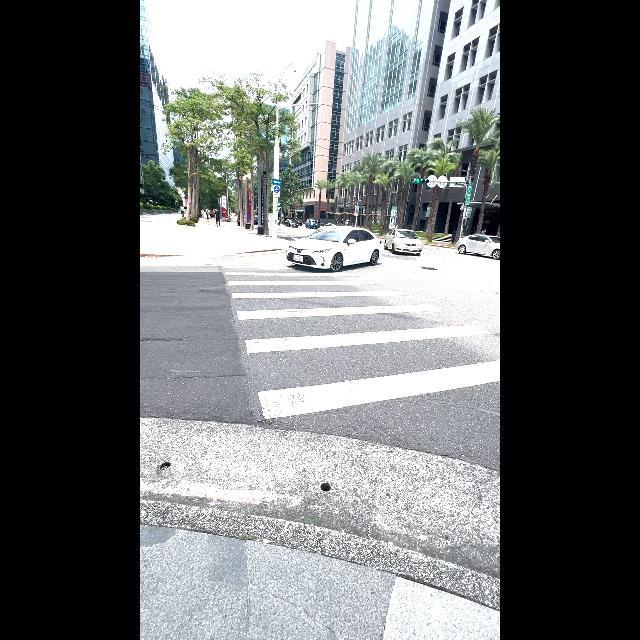sidewalk: (219, 261, 500, 473)
